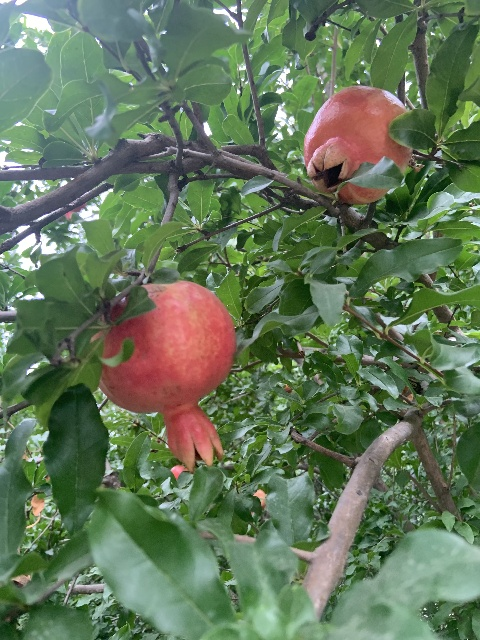ripe: (94, 277, 237, 472), (303, 85, 412, 201)
